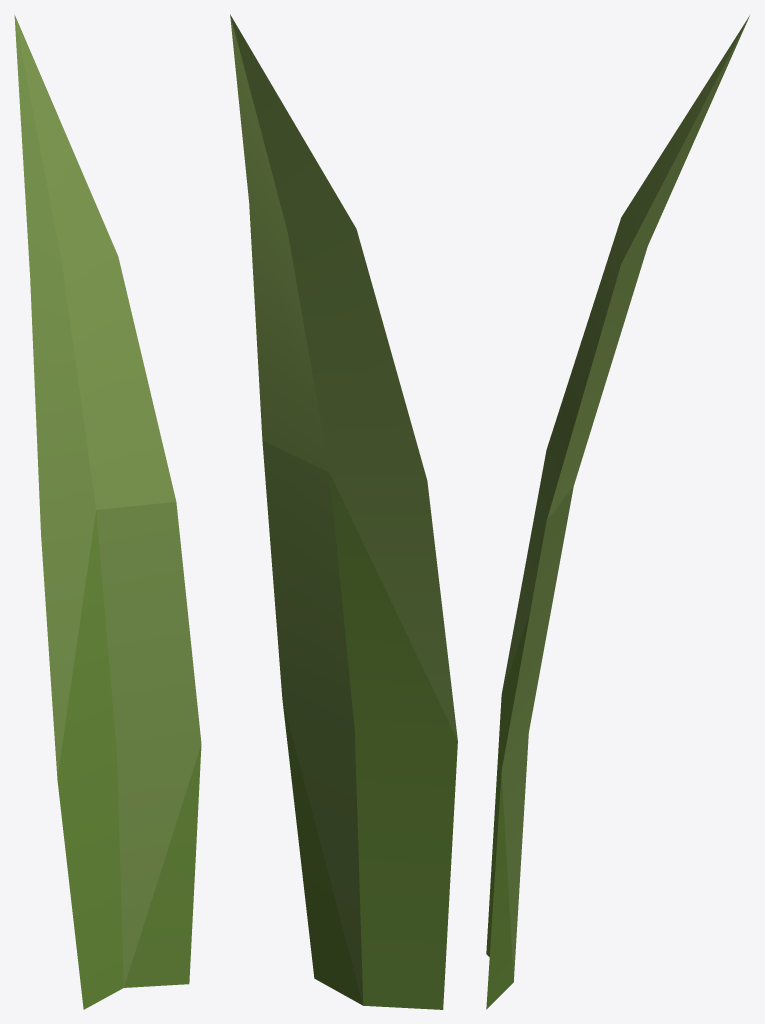
The model's file is itch_kaykit_forest_grass_2_a_singlesided_color1.glb.
3 views of the same model, side by side, from view 1: azimuth 30°, elevation 25°; view 2: azimuth 150°, elevation 25°; view 3: azimuth 270°, elevation 25° (orthographic). The views are drawn at different scales.
Parts seen in each view (by area): view 1: Grass_2_A_Singlesided_Color1; view 2: Grass_2_A_Singlesided_Color1; view 3: Grass_2_A_Singlesided_Color1.
Boxes of the visible parts, x1,y1,x2,y2 form: Grass_2_A_Singlesided_Color1: (14, 14, 201, 1009); Grass_2_A_Singlesided_Color1: (230, 14, 457, 1009); Grass_2_A_Singlesided_Color1: (486, 15, 749, 1009).
Size of the model in its own units: 0.3122 by 1.85 by 0.4578.
